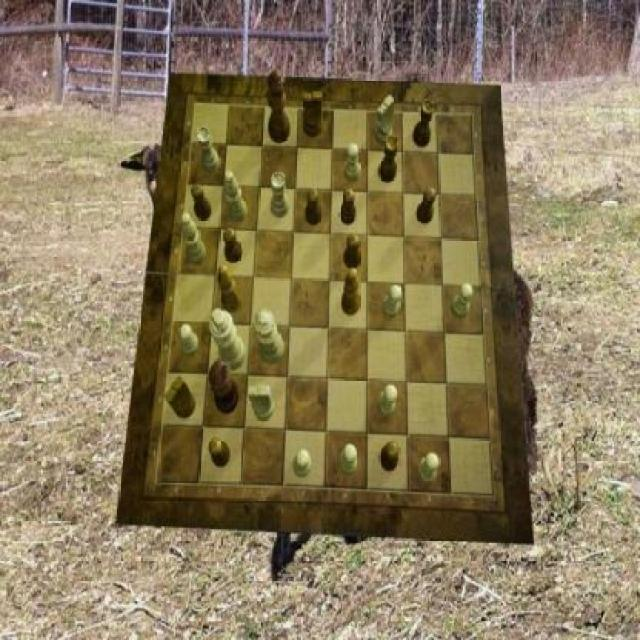bishop: (218, 265, 242, 312), (342, 269, 362, 317)
black-bishop: (209, 358, 239, 414)
black-king: (166, 376, 197, 420), (303, 91, 322, 136)
black-knight: (191, 183, 211, 221), (417, 188, 437, 224), (209, 437, 232, 468), (343, 234, 361, 270), (223, 228, 242, 262), (380, 442, 400, 472), (304, 188, 320, 225), (340, 190, 356, 226)
black-pawn: (268, 70, 292, 144)
black-queen: (412, 99, 435, 148), (378, 135, 398, 183)
black-rook: (183, 214, 208, 266), (225, 170, 248, 222)
white-bishop: (209, 308, 246, 370)
white-king: (374, 96, 394, 146), (248, 384, 274, 420)
white-knight: (451, 284, 473, 320), (417, 454, 440, 486), (344, 143, 362, 182), (377, 384, 397, 418), (180, 323, 200, 357), (383, 285, 403, 319), (339, 445, 356, 477), (292, 451, 312, 478)
white-pawn: (253, 309, 284, 364)
white-queen: (197, 126, 220, 172), (271, 172, 290, 218)
